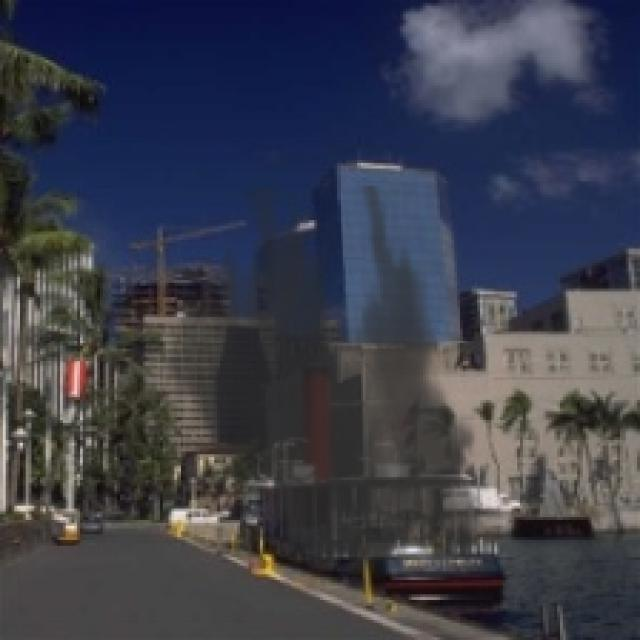smoke: (157, 186, 500, 600)
